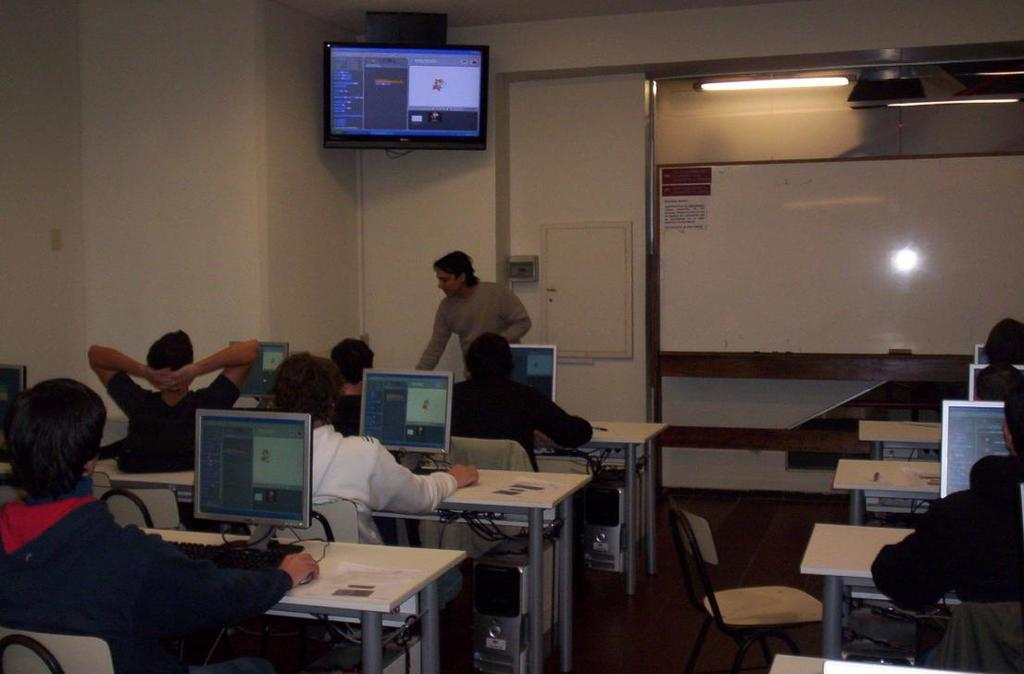Chair: (666, 494, 824, 673)
Computer-monitor: (321, 39, 490, 151)
Laptop: (358, 368, 454, 473)
